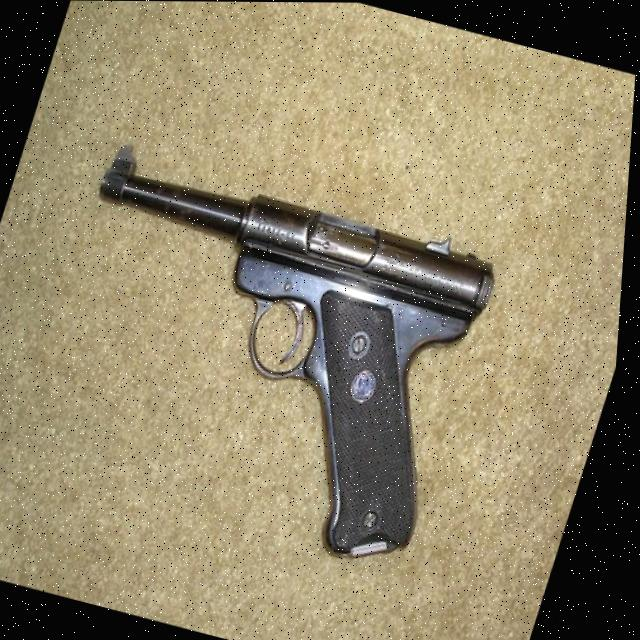pistol: (7, 145, 514, 575)
